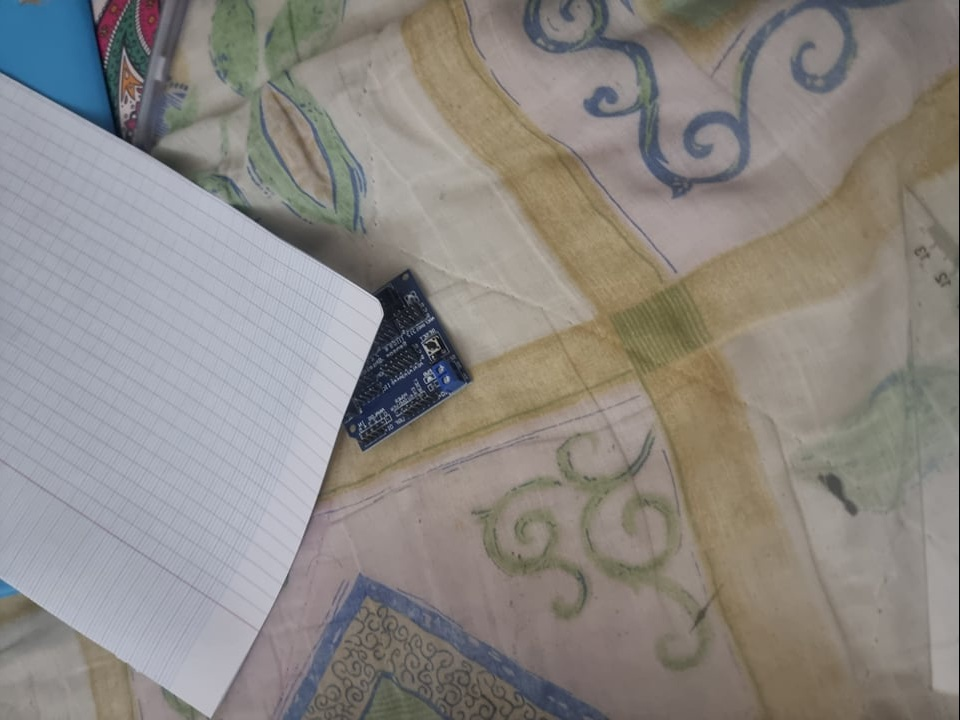5V EXPANSION: (342, 268, 476, 454)
